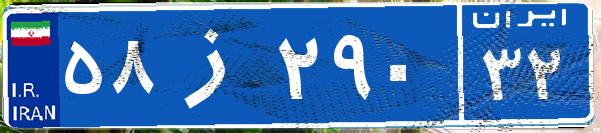0: (385, 28, 445, 110)
2: (273, 28, 330, 110), (525, 38, 570, 115)
3: (475, 38, 525, 113)
5: (57, 26, 110, 107)
8: (110, 28, 158, 105)
9: (330, 28, 385, 110)
ز: (158, 15, 273, 115)
